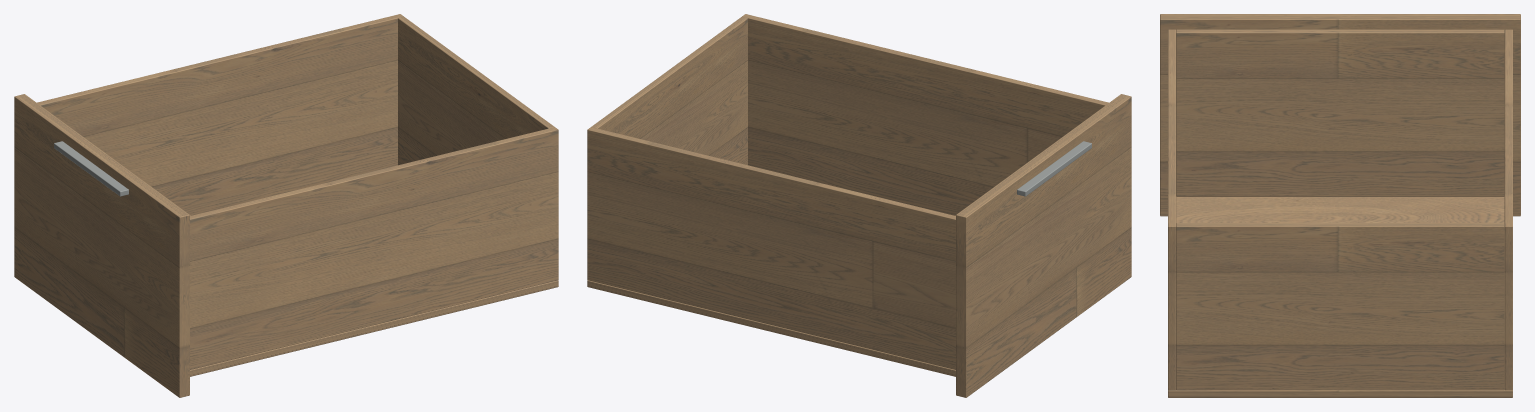
The model's file is island_drawer_0_1.glb.
3 renders of one model, left to right at view 1: azimuth 30°, elevation 25°; view 2: azimuth 150°, elevation 25°; view 3: azimuth 270°, elevation 25°, orthographic. The views are drawn at different scales.
Visible parts, largest first — view 1: island_drawer_0_1_bin_0_side_-1, island_drawer_0_1, island_drawer_0_1_front, island_drawer_0_1_bin_0_floor, island_drawer_0_1_pull; view 2: island_drawer_0_1, island_drawer_0_1_bin_0_side_-1, island_drawer_0_1_front, island_drawer_0_1_bin_0_floor, island_drawer_0_1_pull; view 3: island_drawer_0_1, island_drawer_0_1_bin_0_end_-1, island_drawer_0_1_bin_0_floor, island_drawer_0_1_front, island_drawer_0_1_bin_0_side_-1.
Boxes of the visible parts, x1,y1,x2,y2 form: island_drawer_0_1_bin_0_side_-1: (190,127,558,369); island_drawer_0_1: (37,14,554,215); island_drawer_0_1_front: (14,94,189,397); island_drawer_0_1_bin_0_floor: (190,280,558,376); island_drawer_0_1_pull: (54,141,128,196); island_drawer_0_1: (587,17,955,369); island_drawer_0_1_bin_0_side_-1: (742,14,1108,215); island_drawer_0_1_front: (956,94,1131,397); island_drawer_0_1_bin_0_floor: (587,280,955,376); island_drawer_0_1_pull: (1017,141,1091,196); island_drawer_0_1: (1176,29,1512,390); island_drawer_0_1_bin_0_end_-1: (1176,29,1504,196); island_drawer_0_1_bin_0_floor: (1168,196,1512,397); island_drawer_0_1_front: (1160,14,1520,216); island_drawer_0_1_bin_0_side_-1: (1168,29,1176,390).
Bounding box in the file's own units: 0.954 × 0.42 × 0.696.
Materials: 2 (1 with a texture image).
